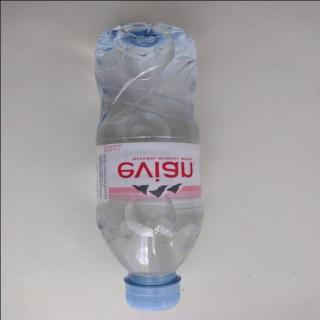Anorganik: (89, 19, 209, 312)
